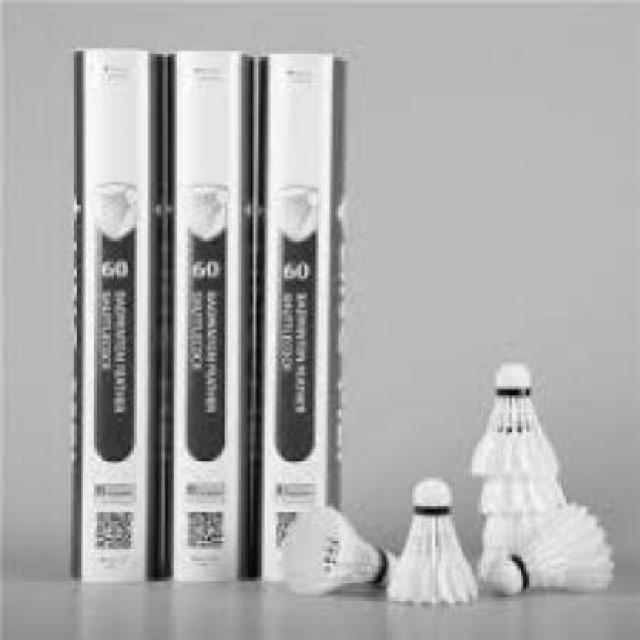Shuttlecock: (471, 361, 562, 477)
